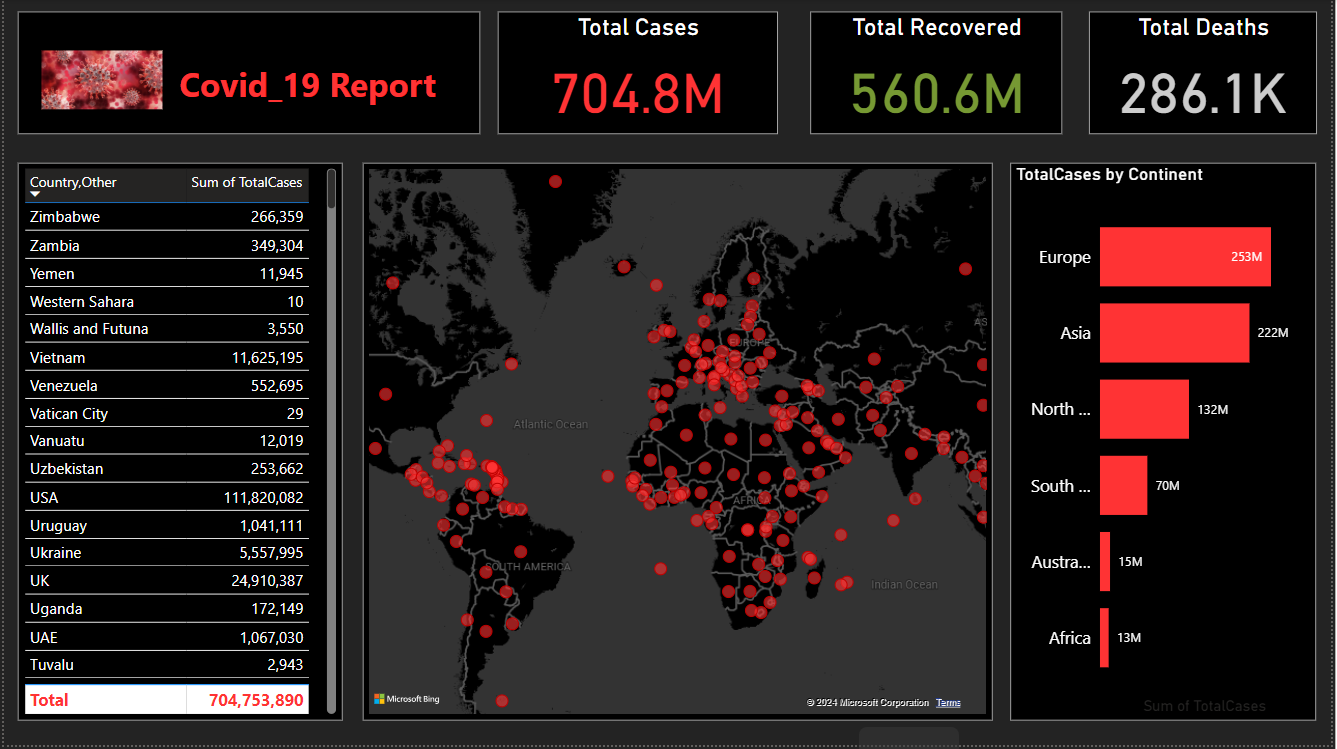

This screenshot's page, from the dashboard's own definition file:
{"tool":"powerbi","page":{"name":"Page 1","canvas":[1280,720],"ordinal":0},"visuals":[{"type":"map","fields":{"Category":["Table 1.Country,Other"]},"box":[346.7,158.3,608.3,538.3],"z":0},{"type":"card","title":"Total Cases","fields":{"Values":["Sum(Table 1.TotalCases)"]},"box":[476.7,11.7,270,118.3],"z":1000},{"type":"card","title":"Total Deaths","fields":{"Values":["Sum(Table 1.Deaths/1M pop)"]},"box":[1046.7,11.7,220,118.3],"z":2000},{"type":"card","title":"Total Recovered","fields":{"Values":["Sum(Table 1.TotalRecovered)"]},"box":[778.3,11.7,243.3,118.3],"z":3000},{"type":"tableEx","fields":{"Values":["Table 1.Country,Other","Sum(Table 1.TotalCases)"]},"box":[13.3,158.3,313.3,538.3],"z":4000},{"type":"clusteredBarChart","title":" TotalCases by Continent","fields":{"Category":["Table 1.Continent","Table 1.Country,Other"],"Y":["Sum(Table 1.TotalCases)"]},"box":[971.7,158.3,295,538.3],"z":5000},{"type":"textbox","box":[13.3,11.7,446.7,118.3],"z":6000},{"type":"image","box":[31.7,11.5,127,131.3],"z":7002}]}

Visuals, with their boxes in screenshot pixels (x1, y1, x2, y2), scaled from the page's 1280x720 canvas onto the 1337x749 screenshot:
map - Table 1.Country,Other: locate(362, 165, 998, 725)
"Total Cases" card: locate(498, 12, 780, 135)
"Total Deaths" card: locate(1093, 12, 1323, 135)
"Total Recovered" card: locate(813, 12, 1067, 135)
tableEx - Table 1.Country,Other x Sum(Table 1.TotalCases): locate(14, 165, 341, 725)
" TotalCases by Continent" clusteredBarChart: locate(1015, 165, 1323, 725)
textbox: locate(14, 12, 480, 135)
image: locate(33, 12, 166, 149)
